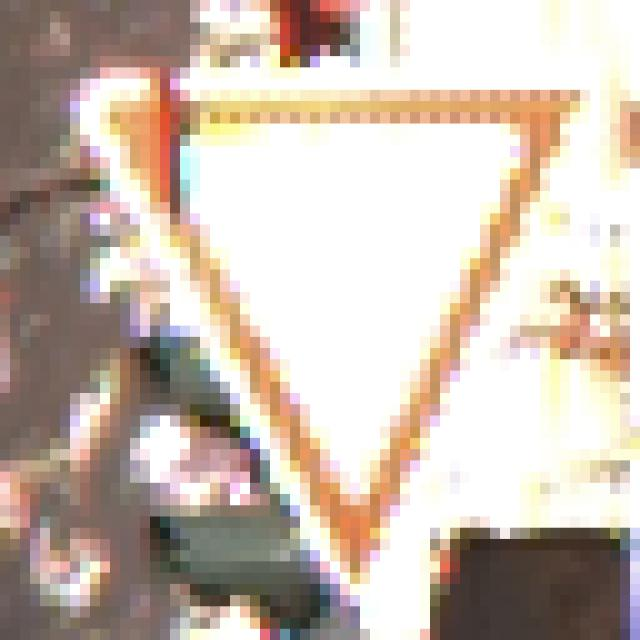Give Way: (61, 57, 591, 585)
